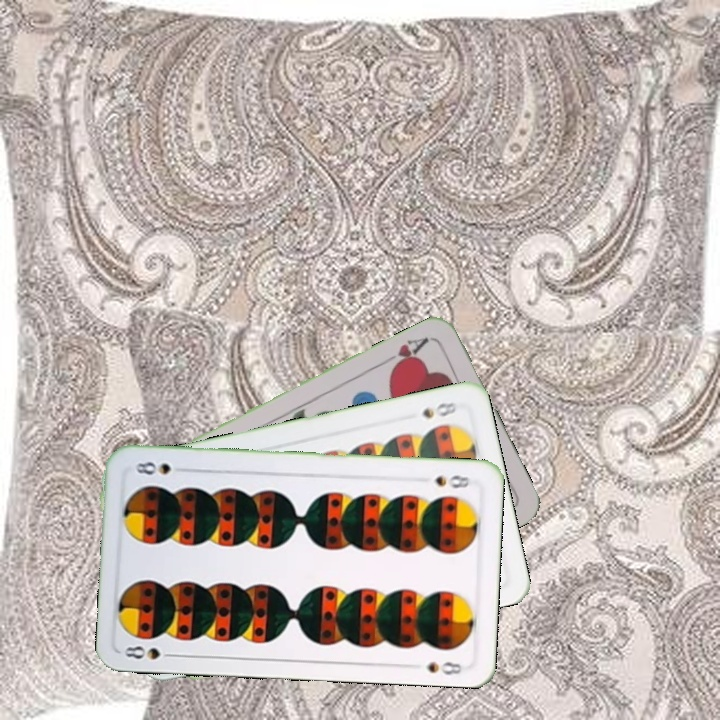HA: (378, 333, 432, 374)
S8: (120, 639, 179, 662), (418, 398, 459, 421), (430, 471, 473, 491)
